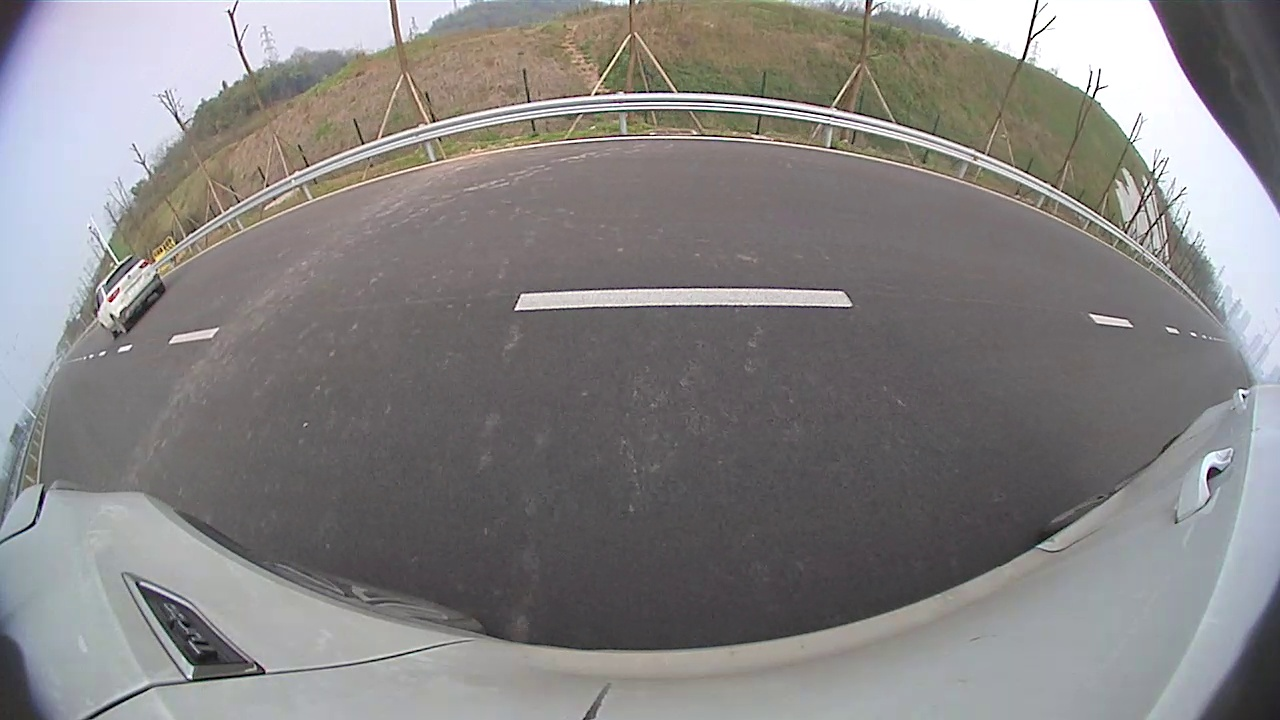car: (93, 253, 166, 338)
rear: (109, 315, 128, 335)
